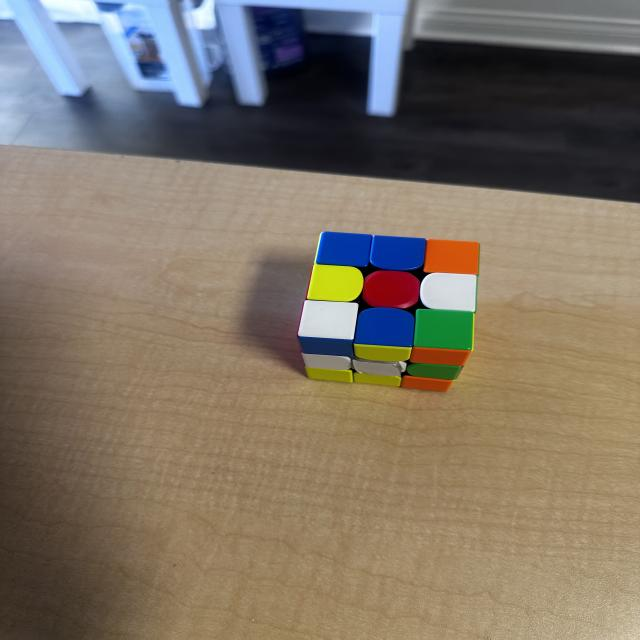sticker: (411, 308, 477, 363), (297, 300, 361, 355), (353, 307, 416, 360), (360, 269, 421, 312), (418, 272, 479, 314), (313, 230, 372, 270), (368, 234, 427, 273), (306, 264, 364, 303), (422, 239, 481, 276)
